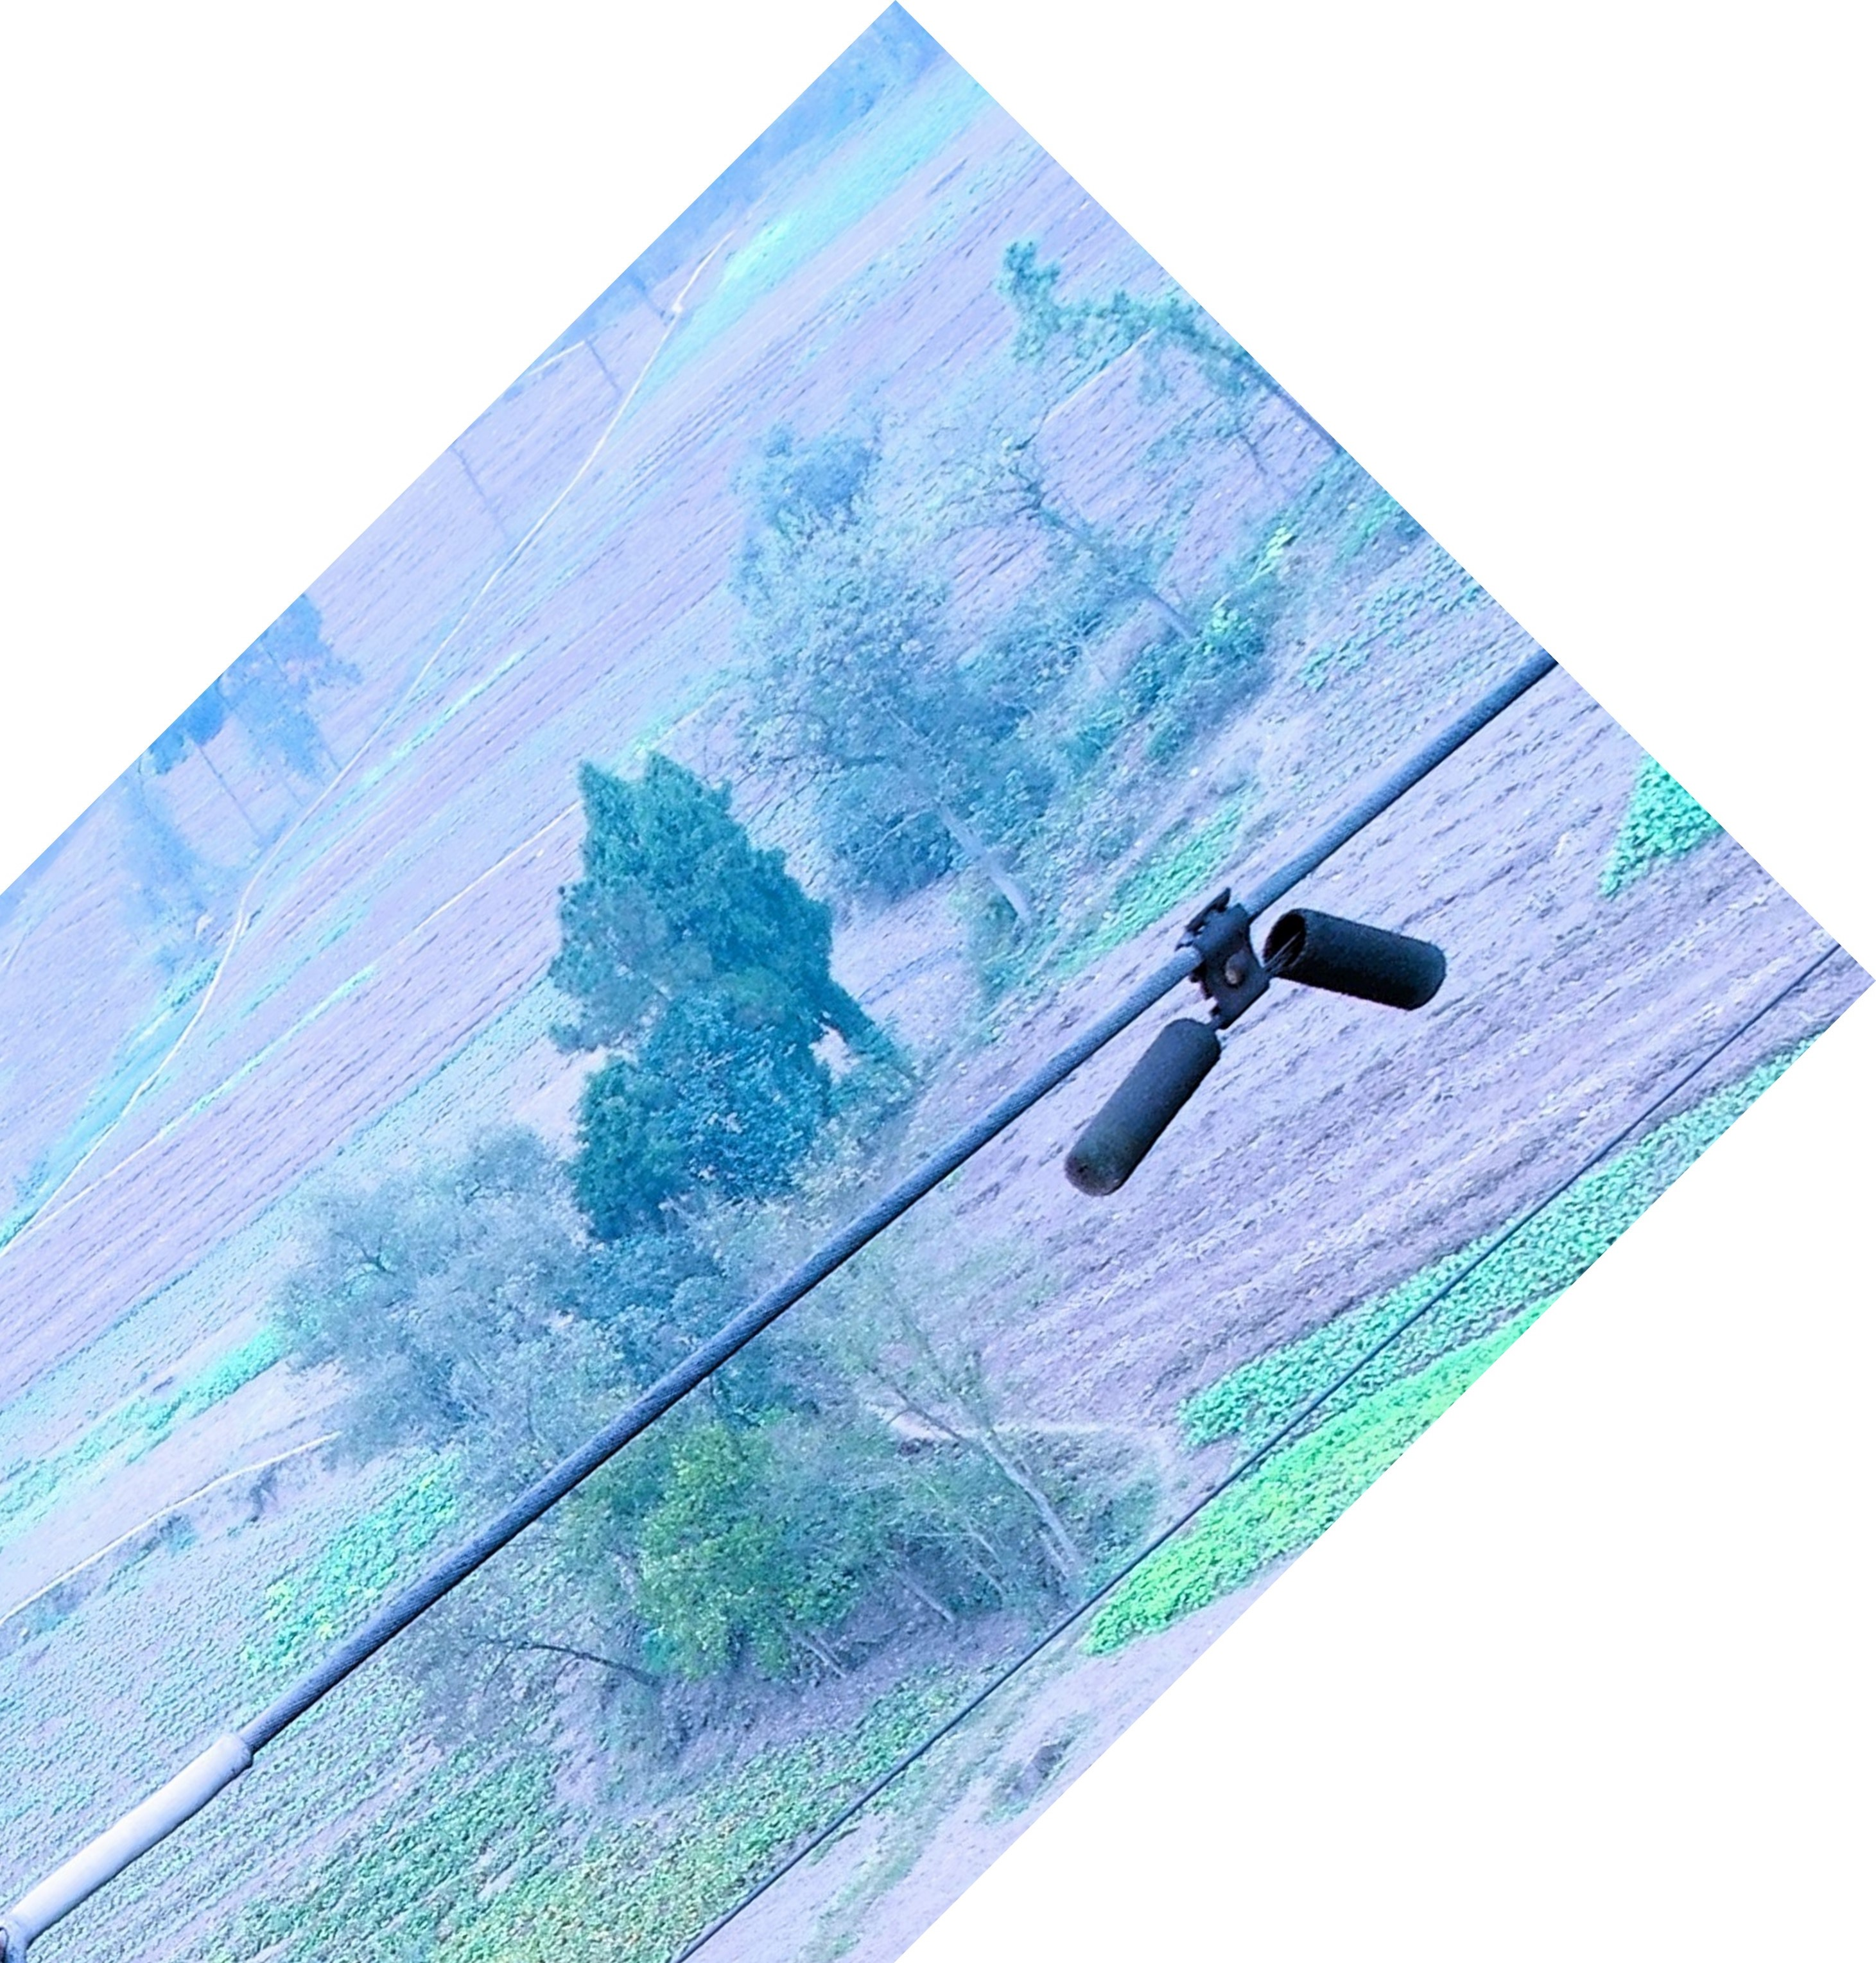Damage of shockproof hammer: (1011, 843, 1468, 1209)
